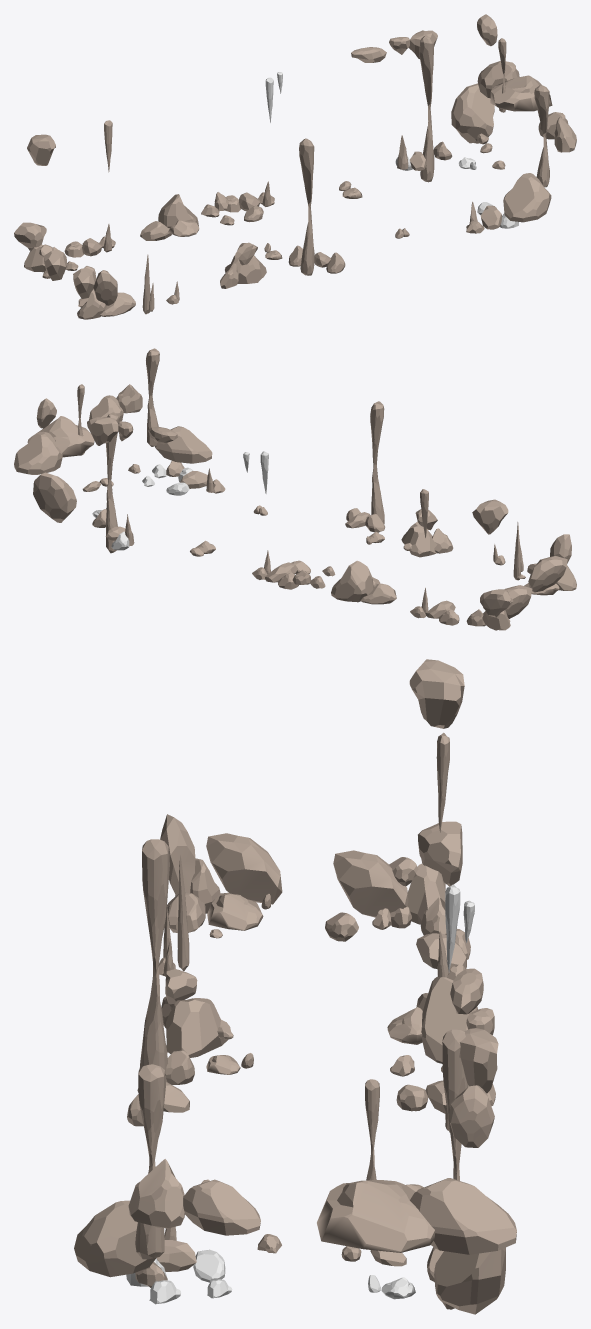
File: export_rocks.fbx
3 views of the same model, one above another, from view 1: azimuth 30°, elevation 25°; view 2: azimuth 150°, elevation 25°; view 3: azimuth 270°, elevation 25° (orthographic). The views are drawn at different scales.
Parts seen in each view (by area): view 1: Rock7, Rock7__3_, Rock8__1_, Stalagmite5, Stalagmite5__1_, Stalagmite5__3_, Rock7__1_, Rock9__2_, Rock2__4_, Rock2__5_, Rock2__3__1, Rock5__3_ (+11 smaller); view 2: Rock7__1_, Rock7, Rock7__3_, Rock8__1_, Rock9__2_, Stalagmite5__1_, Rock5__1__2, Stalagmite5, Rock2__3__1, Stalagmite5__3_, Rock2__5_, Rock2__7_ (+11 smaller); view 3: Rock8__1_, Rock7__1_, Stalagmite5__1_, Rock7__3_, Rock7, Rock5__1__2, Rock5__2_, Rock7__2_, Stalagmite5__3_, Rock2__5_, Rock2__3__1, Rock4 (+21 smaller).
Part boxes in pixels (x1,y1,x2,y2): Rock7: [451, 83, 494, 143]; Rock7__3_: [503, 173, 551, 222]; Rock8__1_: [490, 75, 552, 111]; Stalagmite5: [419, 35, 434, 182]; Stalagmite5__1_: [299, 138, 314, 275]; Stalagmite5__3_: [534, 85, 549, 187]; Rock7__1_: [477, 61, 519, 98]; Rock9__2_: [158, 194, 198, 228]; Rock2__4_: [14, 222, 78, 270]; Rock2__5_: [225, 255, 266, 283]; Rock2__3__1: [27, 134, 55, 165]; Rock5__3_: [93, 270, 117, 305]; Rock7__1_: [14, 431, 62, 474]; Rock7: [33, 472, 76, 522]; Rock7__3_: [155, 426, 212, 463]; Rock8__1_: [27, 416, 94, 457]; Rock9__2_: [331, 560, 373, 602]; Stalagmite5__1_: [370, 401, 384, 532]; Rock5__1__2: [528, 556, 567, 592]; Stalagmite5: [106, 412, 118, 553]; Rock2__3__1: [472, 499, 508, 534]; Stalagmite5__3_: [146, 348, 159, 446]; Rock2__5_: [401, 521, 437, 557]; Rock2__7_: [87, 417, 118, 445]; Rock8__1_: [317, 1180, 434, 1252]; Rock7__1_: [410, 1178, 516, 1254]; Stalagmite5__1_: [139, 839, 169, 1082]; Rock7__3_: [74, 1200, 155, 1277]; Rock7: [434, 1247, 505, 1314]; Rock5__1__2: [206, 833, 282, 904]; Rock5__2_: [333, 850, 408, 917]; Rock7__2_: [183, 1179, 260, 1235]; Stalagmite5__3_: [135, 1064, 165, 1259]; Rock2__5_: [166, 998, 230, 1057]; Rock2__3__1: [409, 659, 464, 728]; Rock4: [128, 1159, 184, 1228].
Size of the model in its own units: 5476 by 1488 by 2110.
